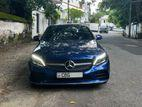car: (28, 23, 109, 87)
